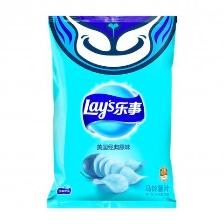snack: (36, 7, 184, 213)
